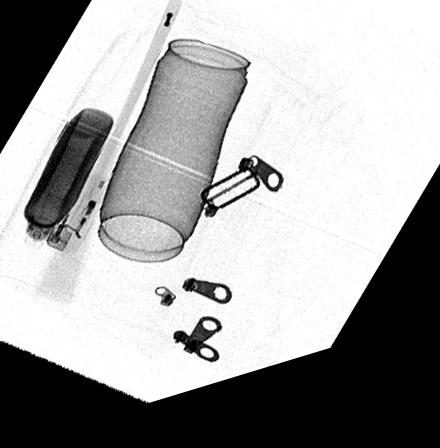Lighter: (20, 113, 114, 244)
